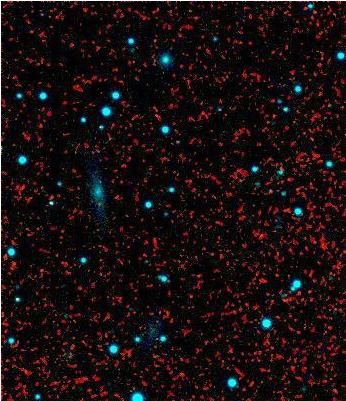star: (83, 166, 113, 196)
